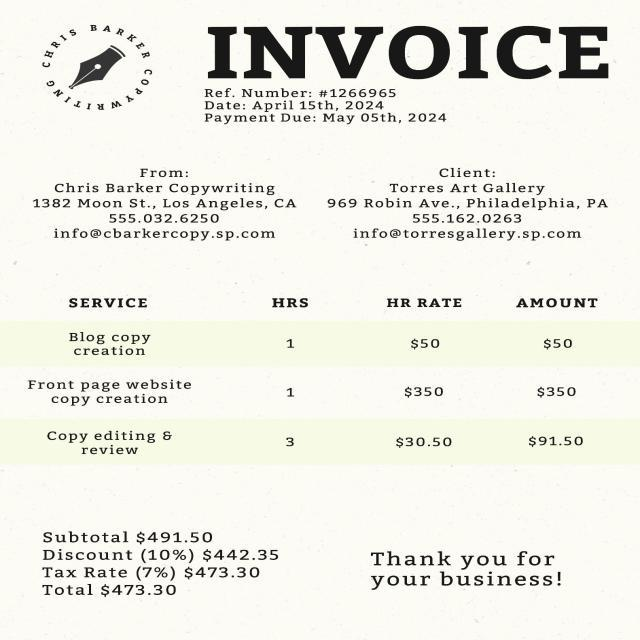ROI: (10, 273, 622, 478), (192, 22, 616, 84), (324, 161, 614, 248), (19, 162, 302, 248), (30, 524, 300, 608), (349, 520, 592, 594), (193, 88, 460, 137), (36, 19, 162, 107)
